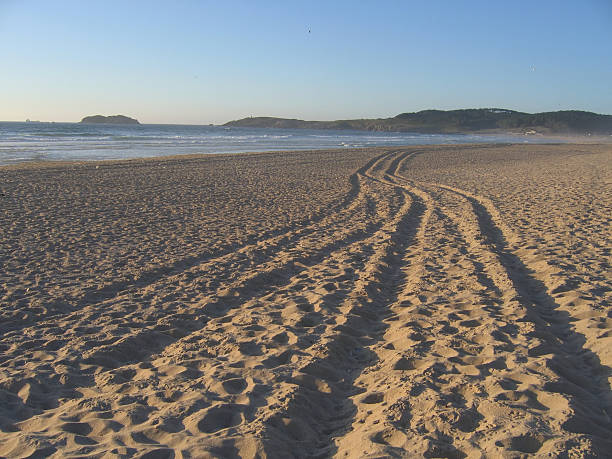human_footprint: (0, 151, 392, 334), (263, 168, 424, 456), (436, 185, 611, 442), (176, 224, 369, 333), (202, 406, 246, 438), (500, 430, 558, 453), (395, 355, 430, 379), (494, 378, 532, 400), (64, 415, 96, 436), (468, 318, 498, 340), (278, 318, 319, 334), (244, 339, 270, 362), (134, 429, 171, 445), (221, 382, 254, 398), (325, 284, 350, 305), (306, 368, 338, 384), (382, 419, 397, 453), (445, 326, 470, 346), (535, 399, 559, 419), (365, 390, 392, 406), (302, 299, 324, 318), (115, 392, 144, 406), (266, 332, 290, 348)
